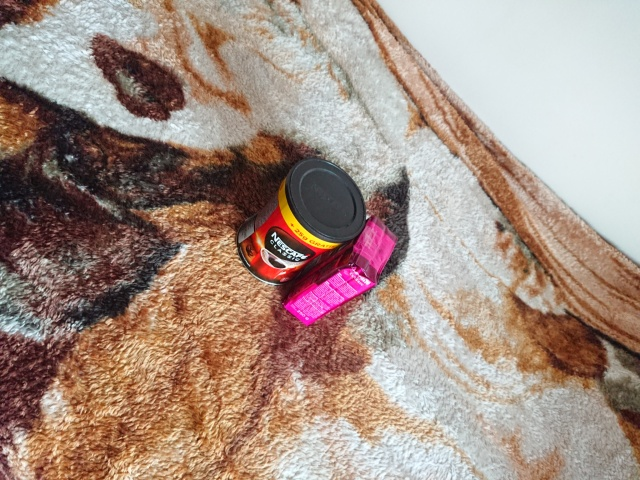Barcaffe Classic Original 225g: (280, 213, 400, 330)
Nescafe Classic 225g: (232, 155, 368, 288)
